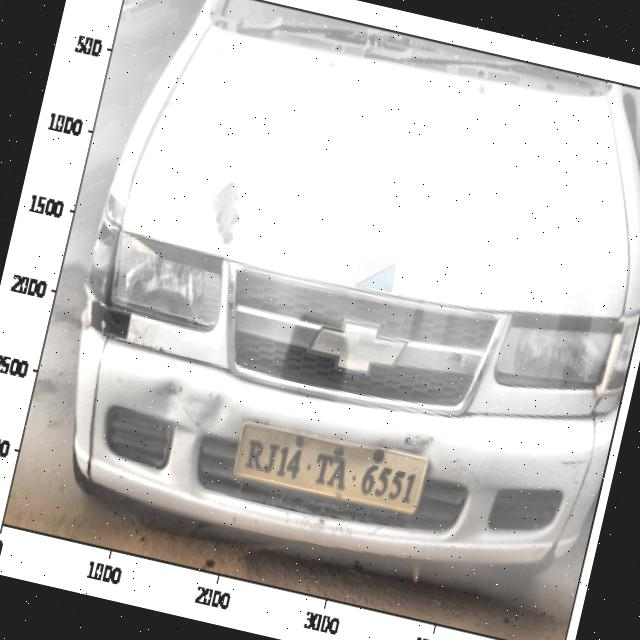license_plate: (236, 424, 422, 516)
